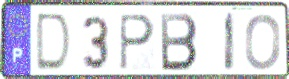3: (81, 14, 111, 71)
B: (159, 11, 200, 73)
D: (34, 11, 74, 74)
I: (223, 10, 237, 73)
O: (244, 13, 282, 72)
P: (118, 13, 156, 73)
